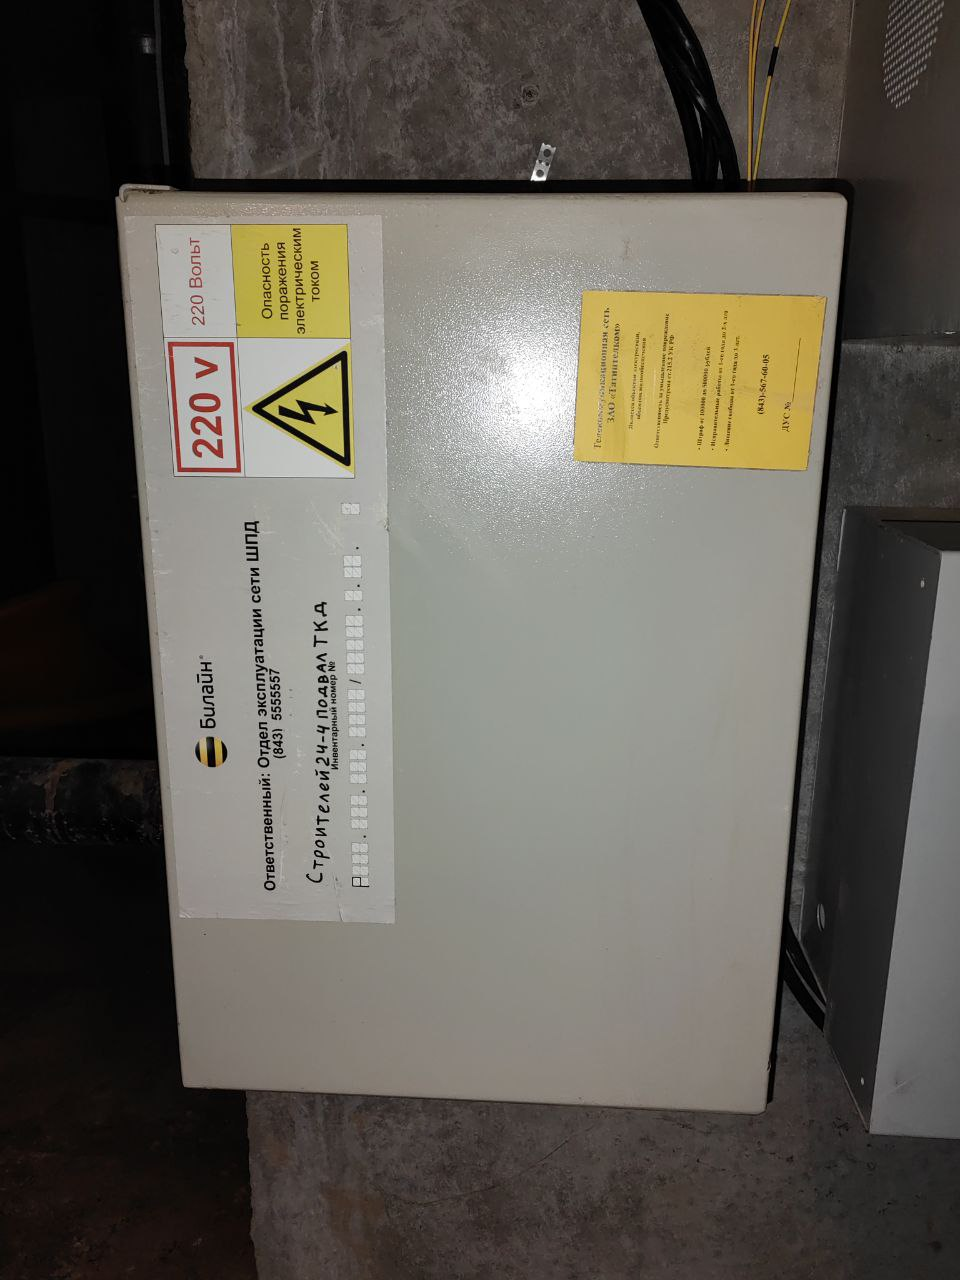sv-5: (110, 177, 848, 1117)
